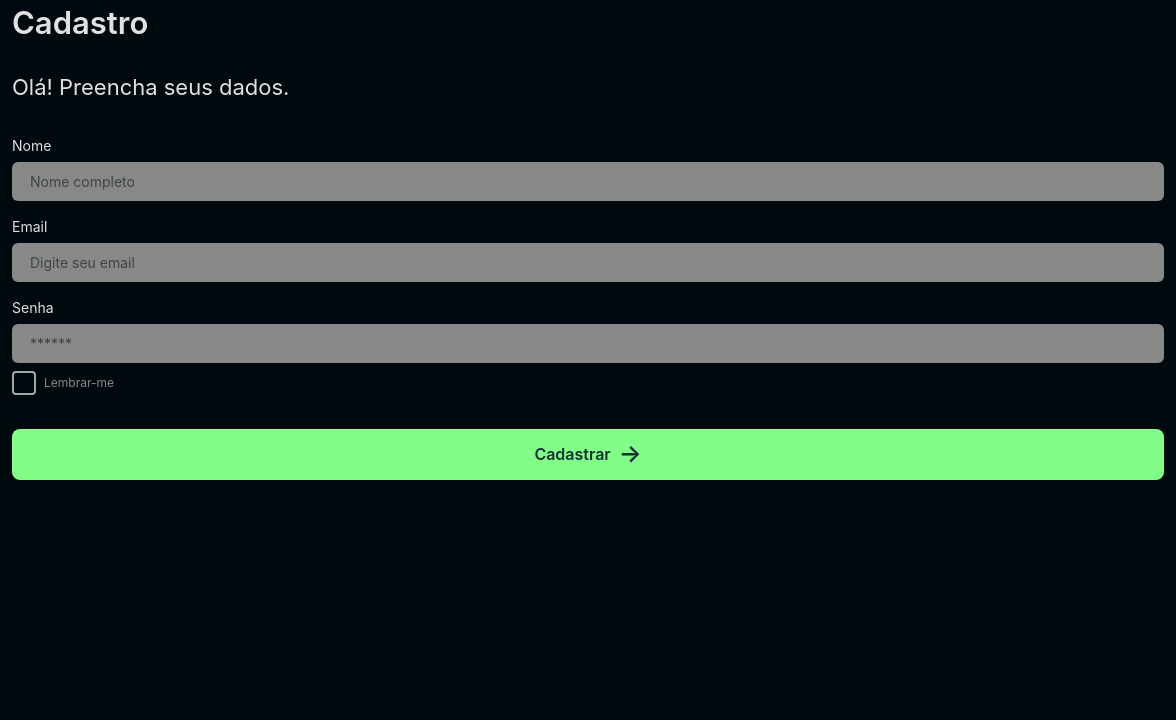
CadastroForm › prevents invalid submission and focuses the first invalid field
This screenshot has width=1176, height=720.
Step 1. Click the button "Cadastrar →" → (588, 454), box left=12, top=428, right=1164, bottom=480
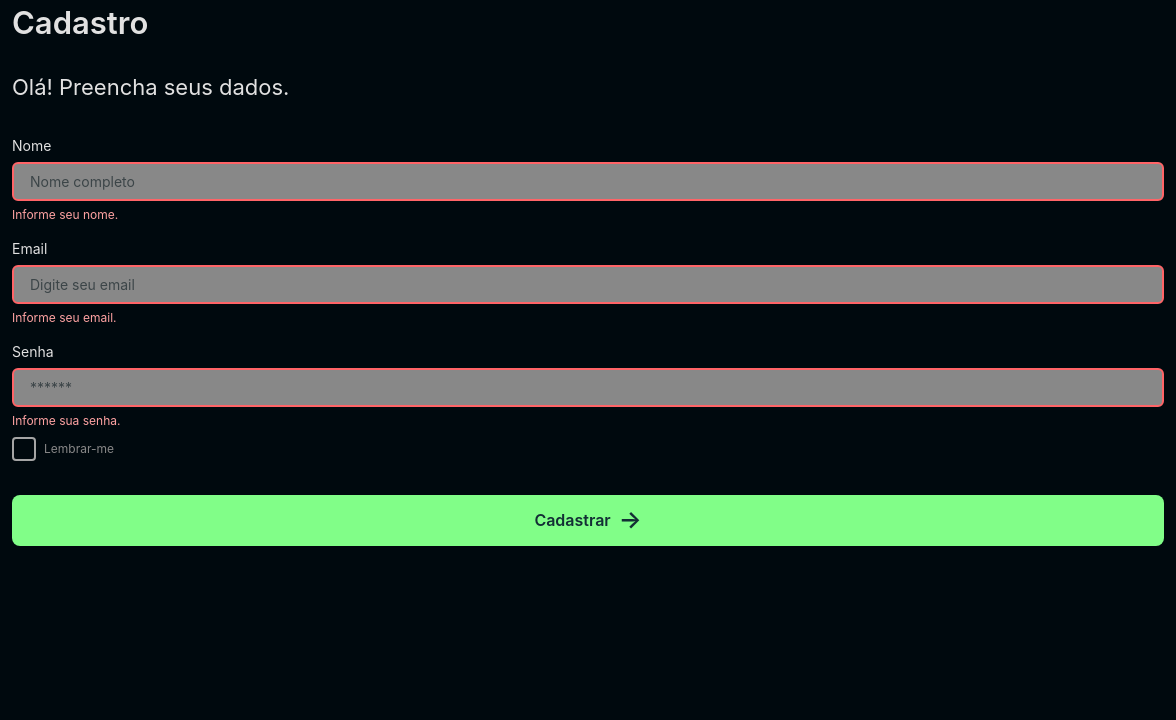
Expected: the text "Informe seu nome." is shown, left=12, top=206, right=118, bottom=222
Expected: the text "Informe seu email." is shown, left=12, top=310, right=116, bottom=324
Expected: the text "Informe sua senha." is shown, left=12, top=412, right=120, bottom=428
